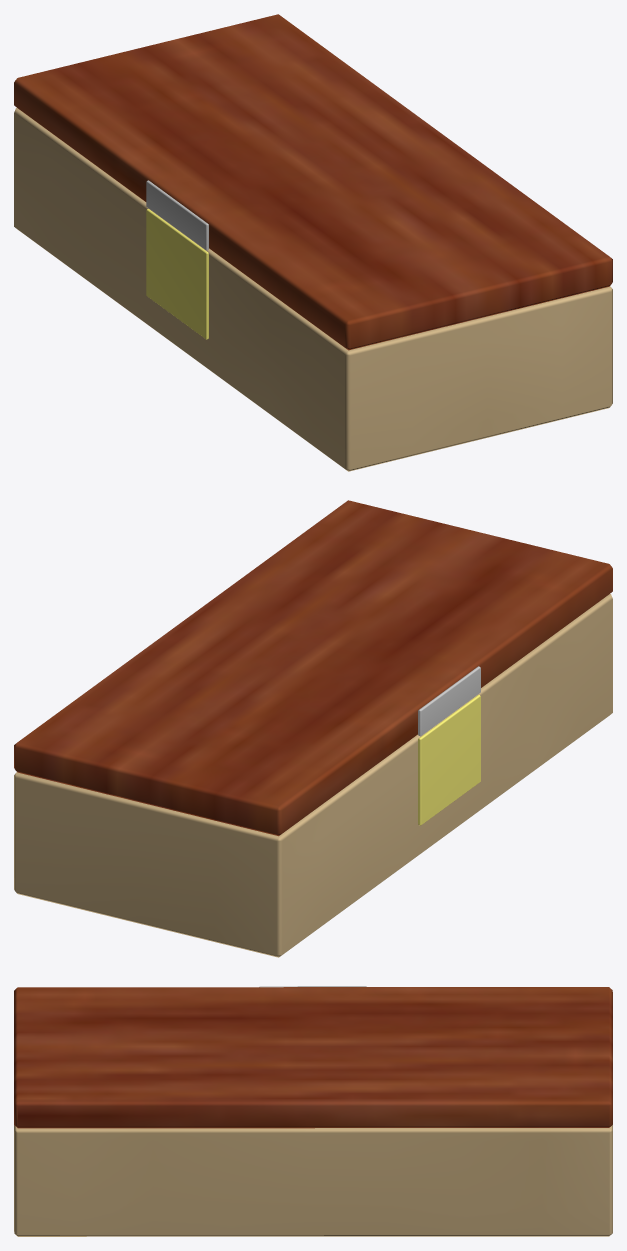
Rendered from Btr_Box.fbx.
3 renders of one model, top to bottom at view 1: azimuth 30°, elevation 25°; view 2: azimuth 150°, elevation 25°; view 3: azimuth 270°, elevation 25°, orthographic. The views are drawn at different scales.
Visible parts, largest first — view 1: SM_Cabinets.001; view 2: SM_Cabinets.001; view 3: SM_Cabinets.001.
Boxes of the visible parts, x1,y1,x2,y2 form: SM_Cabinets.001: (14,14,612,471); SM_Cabinets.001: (14,500,612,957); SM_Cabinets.001: (14,986,612,1236).
Size of the model in its own units: 0.1876 by 0.1002 by 0.4001.
